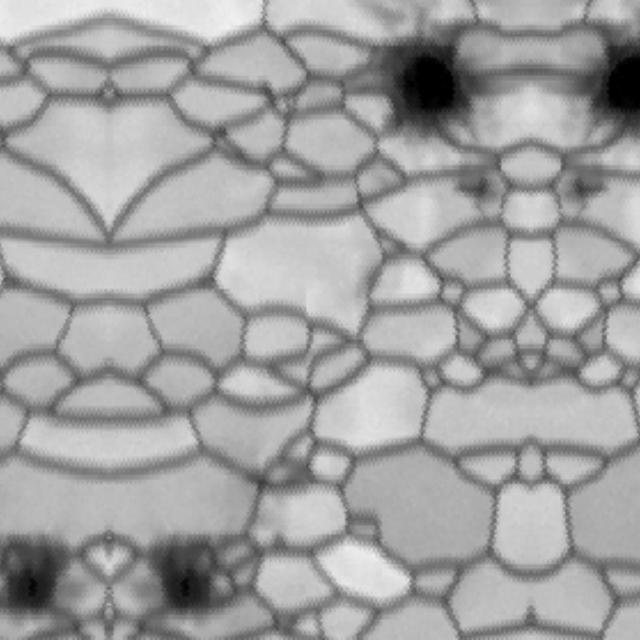good_void: (107, 502, 249, 640), (365, 6, 483, 151), (0, 501, 109, 640), (582, 14, 640, 145), (549, 160, 612, 224), (448, 164, 509, 222)
